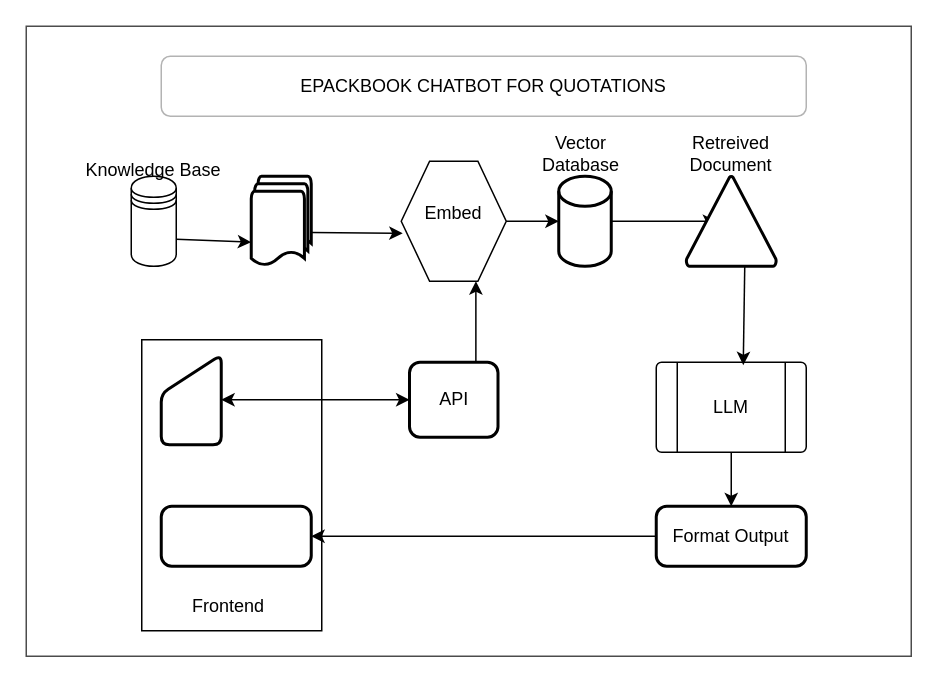
The diagram is 938 pixels wide and 683 high, and some of its shapes have lost their labels. Here are the shapes that lost their labels. From the top down, the centre of each, then its label:
(x=280, y=220): Chunks
(x=190, y=399): User Input
(x=235, y=535): Covert to PDF
